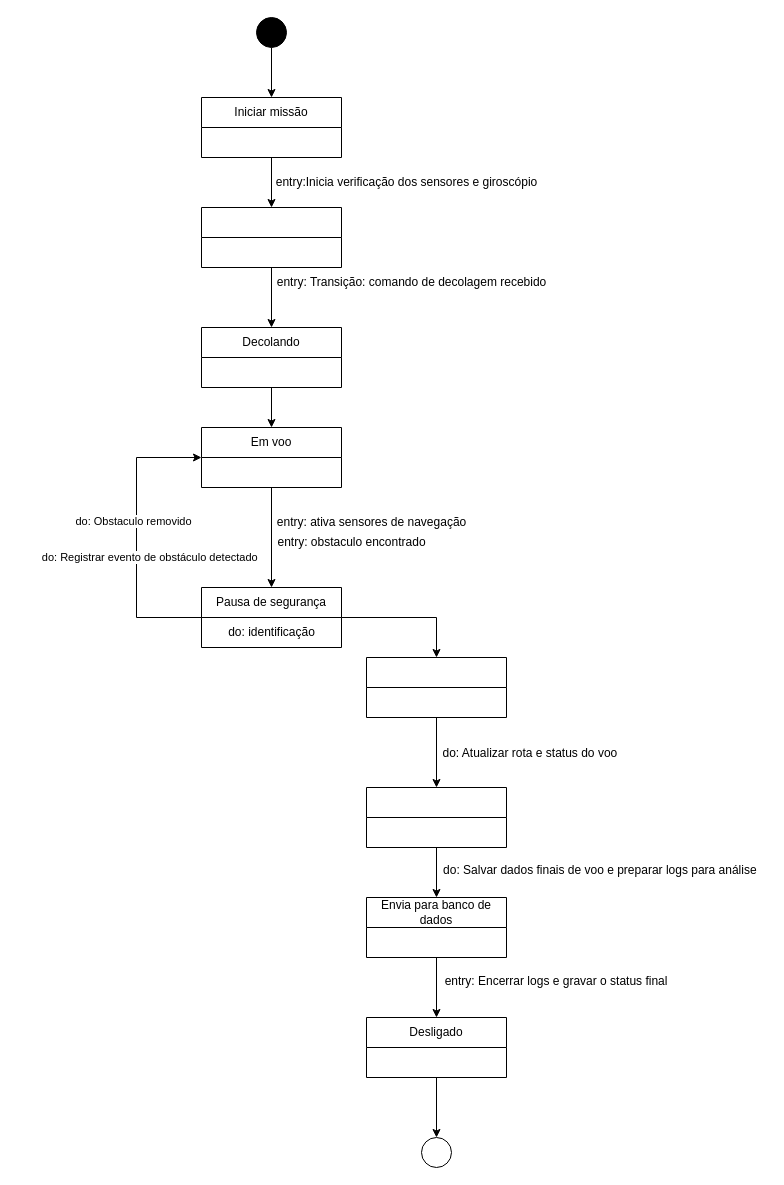
Image size: 784x1185. Some labels were removed from this diagram. Here are the shapes that lost their labels. From the top down, the centre of each, then its label:
the point at 271,237: Pronto para decolagem
the point at 436,687: Retorno ao ponto inicial
the point at 436,817: Pousando
